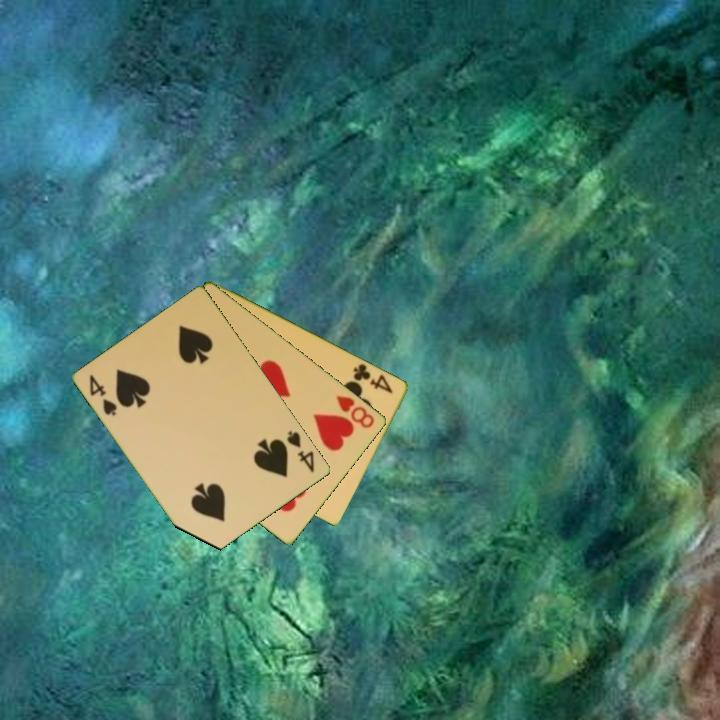4c: (350, 360, 397, 396)
4s: (86, 371, 121, 419), (284, 427, 318, 476)
8h: (333, 392, 378, 431)
